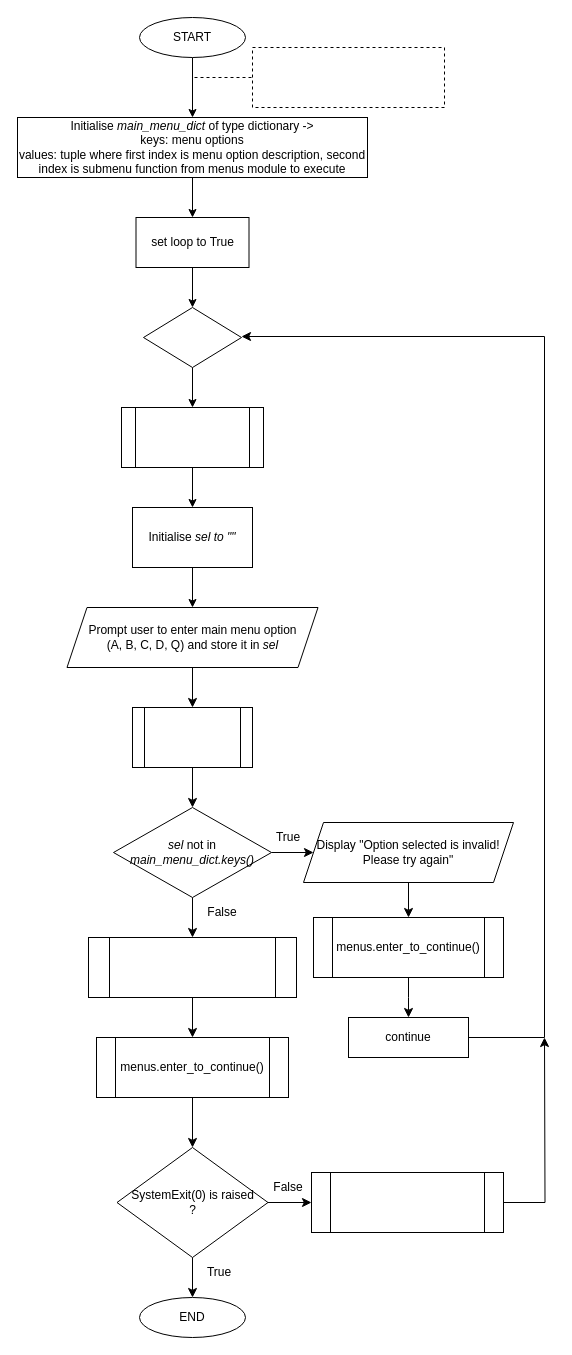
Image size: 572x1355. Some labels were removed from this diagram. Each missing label, with the box of its shape:
clear_console(): (310, 1172, 504, 1232)
disp_main_menu(): (120, 406, 264, 468)
import os import menus import option_functions as options: (252, 46, 444, 108)
Loop: (142, 306, 242, 368)
main_menu_dict.get(sel)[1](): (88, 936, 296, 998)
sel. upper(): (132, 706, 252, 768)
